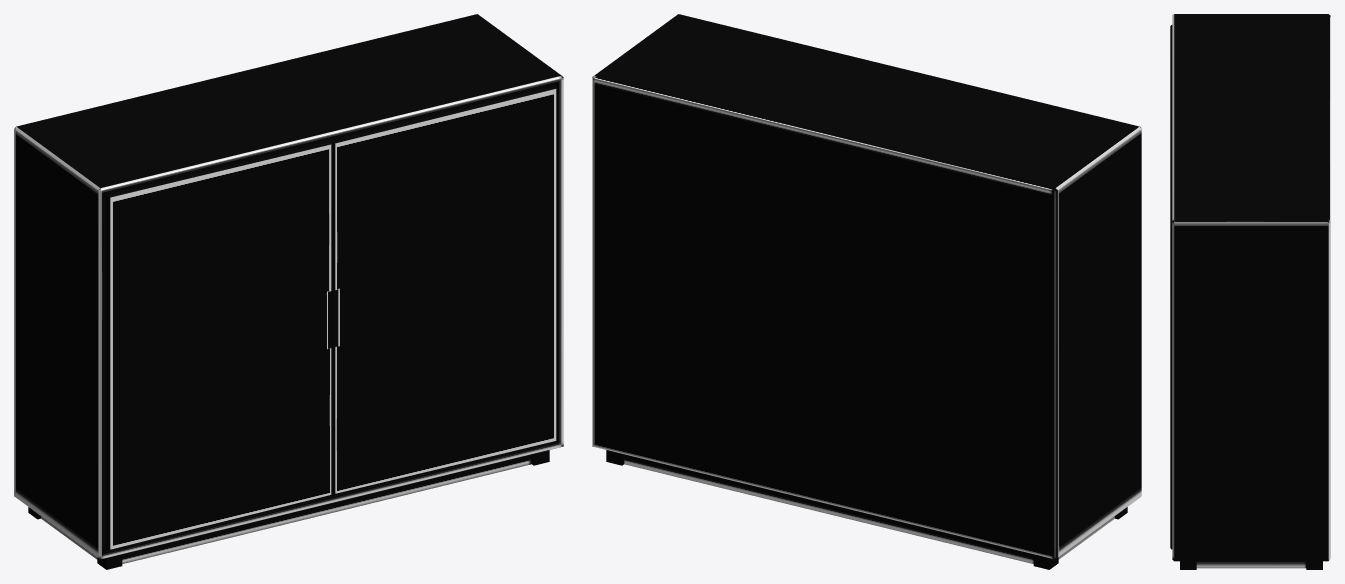
File: cabinet 2.FBX
3 views of the same model, side by side, from view 1: azimuth 30°, elevation 25°; view 2: azimuth 150°, elevation 25°; view 3: azimuth 270°, elevation 25° (orthographic). The views are drawn at different scales.
Visible parts, largest first — view 1: cabinet, door1, door2; view 2: cabinet; view 3: cabinet, door2, door1.
Part boxes in pixels (<box>): cabinet: <box>14,14,563,569</box>; door1: <box>106,140,332,550</box>; door2: <box>331,85,556,495</box>; cabinet: <box>592,14,1141,569</box>; cabinet: <box>1172,14,1330,569</box>; door2: <box>1170,125,1172,549</box>; door1: <box>1170,25,1172,126</box>.
Size of the model in its own units: 46.46 by 36.85 by 15.14.
